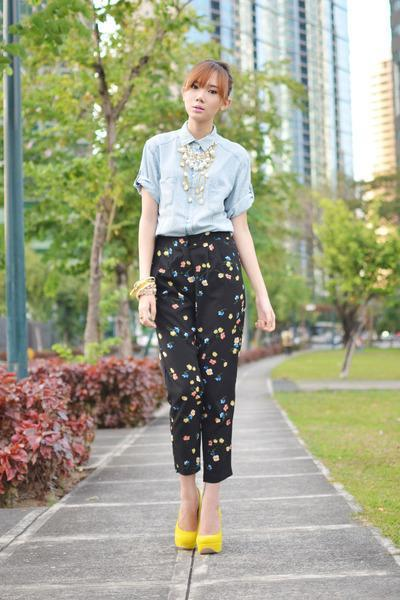pants: (150, 231, 244, 483)
shirt: (136, 120, 257, 239)
shoe: (175, 516, 220, 563)
